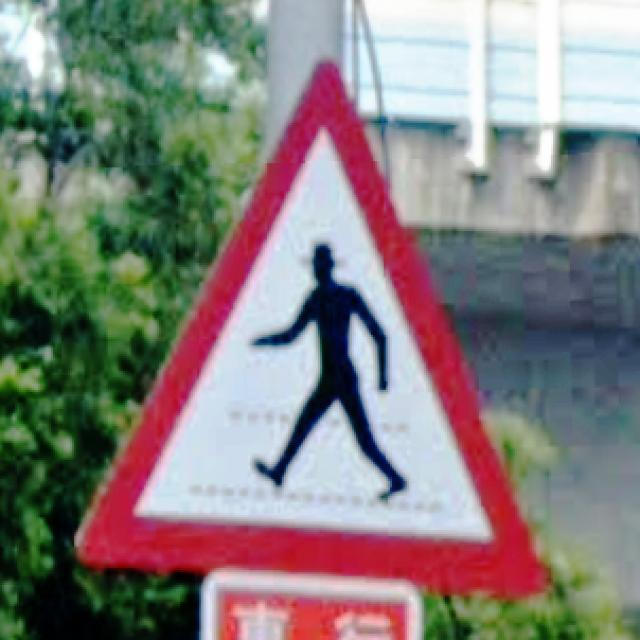pedestriancross: (78, 63, 545, 595)
